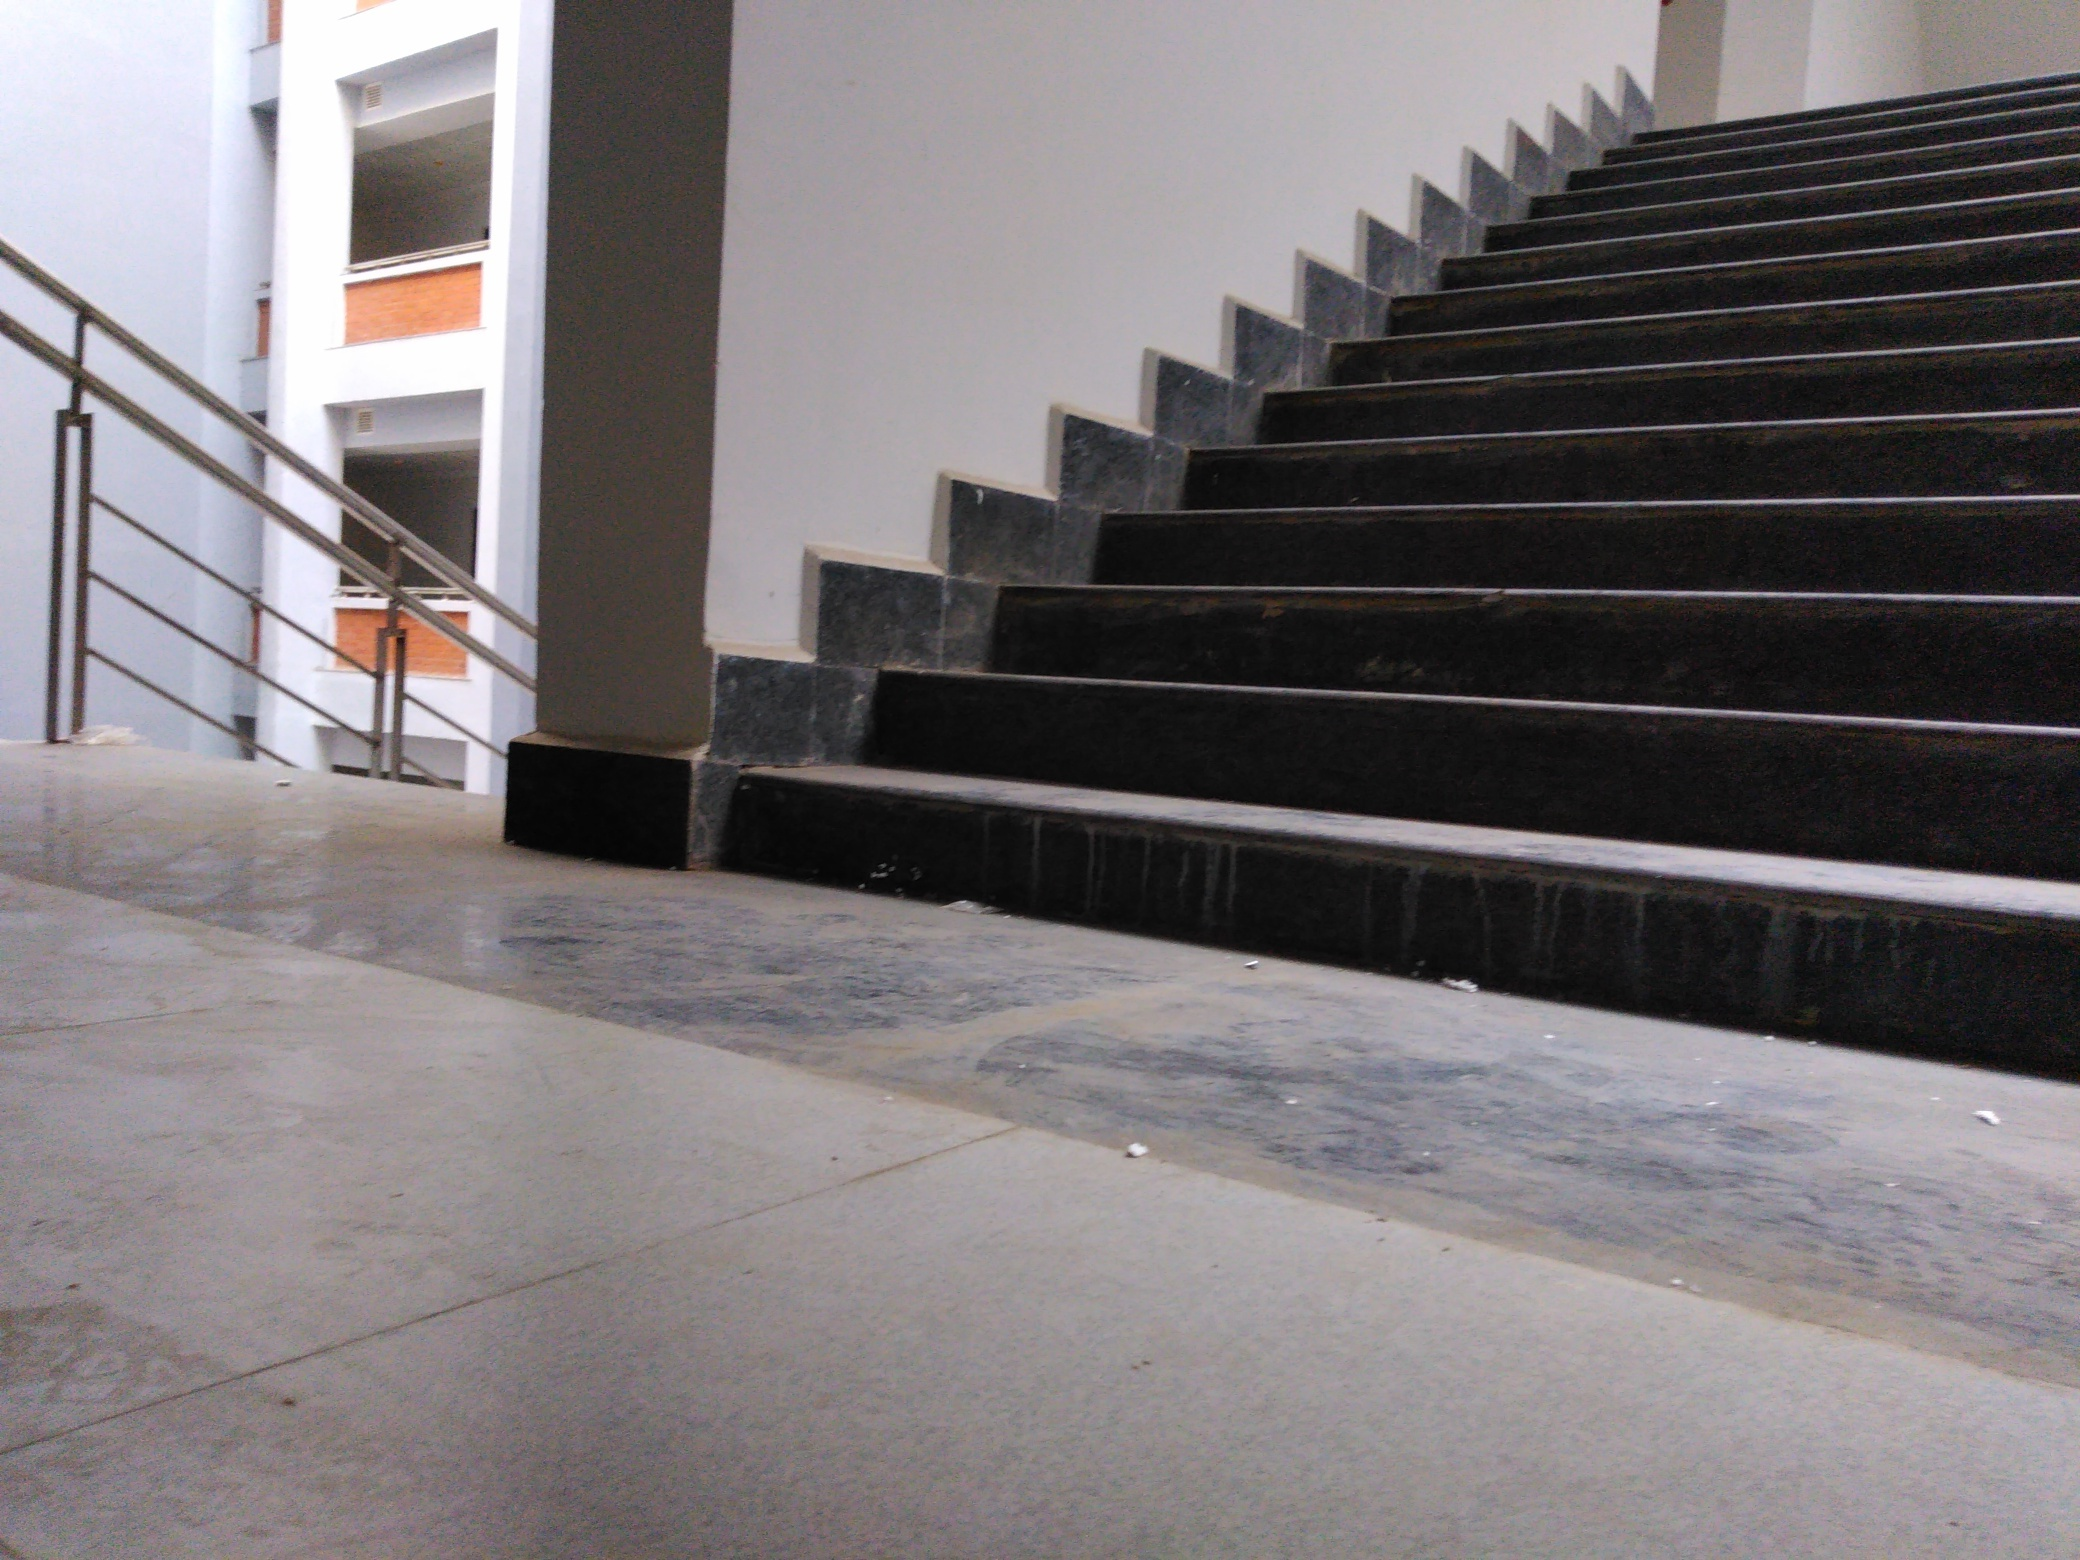stairs_up: (734, 75, 2075, 975)
